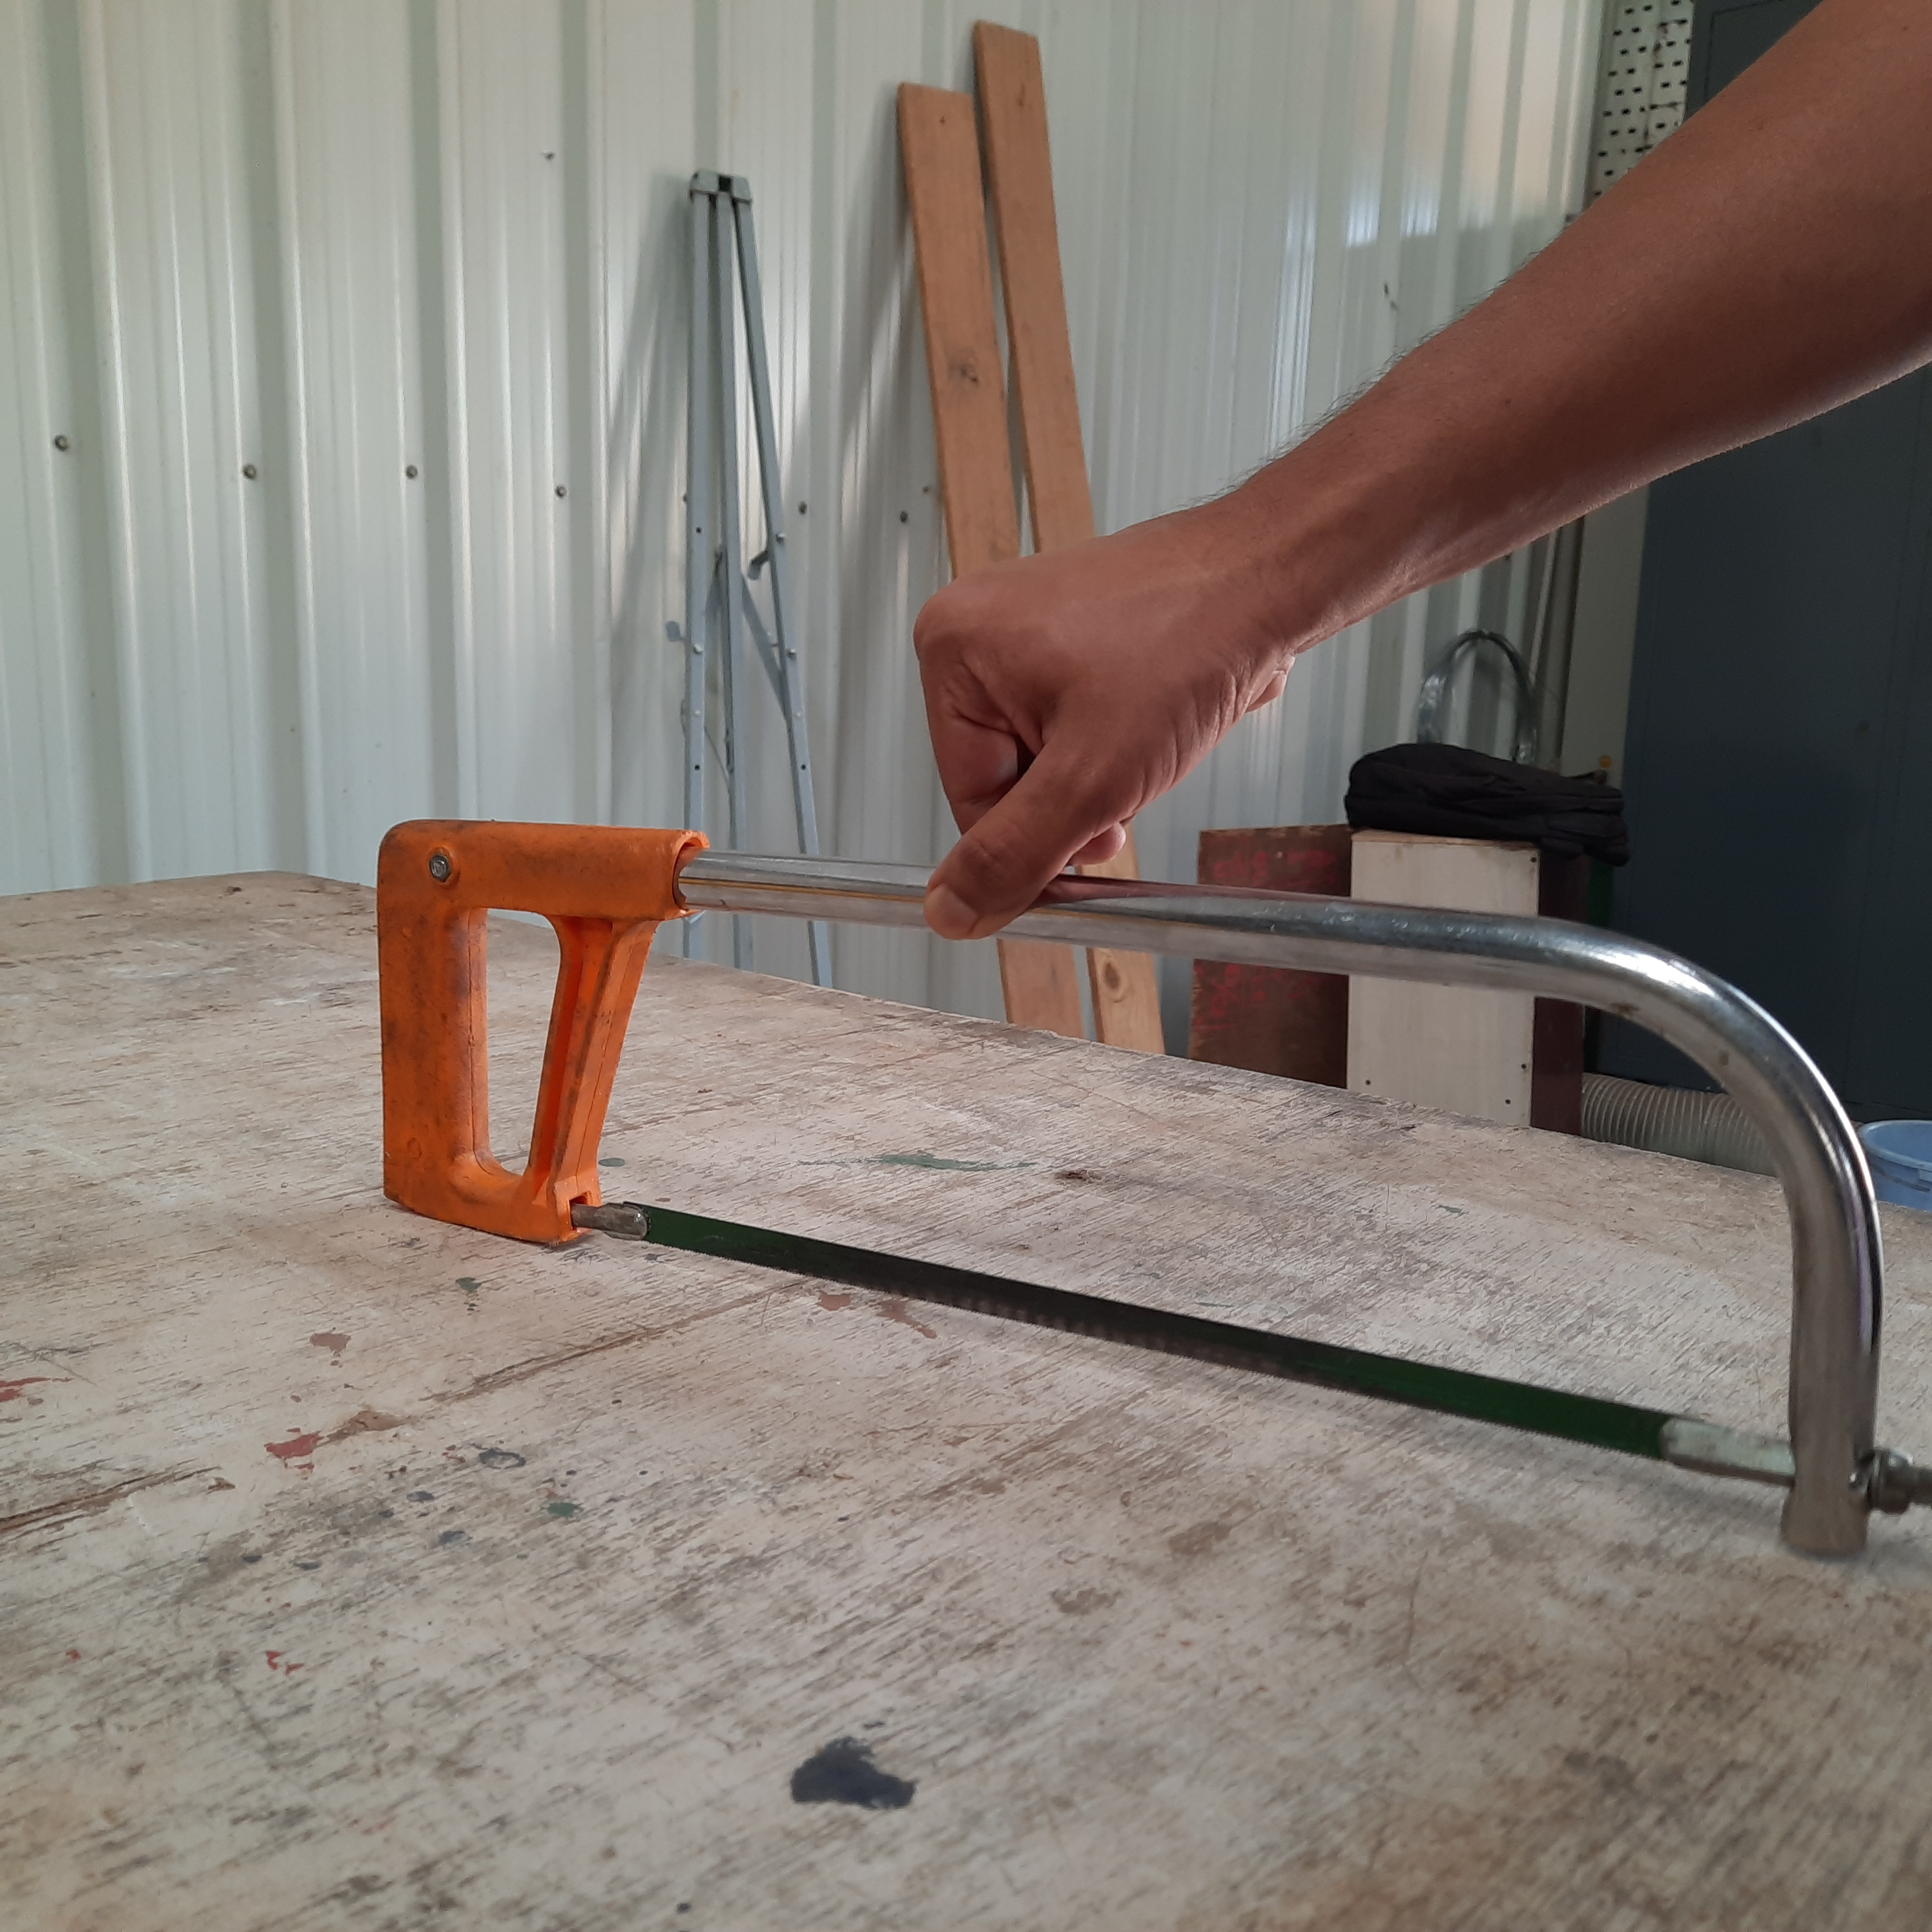Hexaframe: (322, 787, 1932, 1573)
